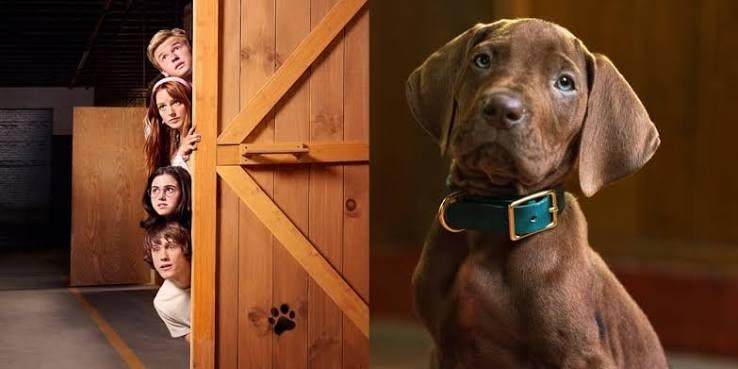non-dog: (142, 221, 192, 364), (142, 77, 201, 174), (140, 165, 193, 235), (146, 29, 192, 80)
puppy-dog: (405, 16, 670, 369)
